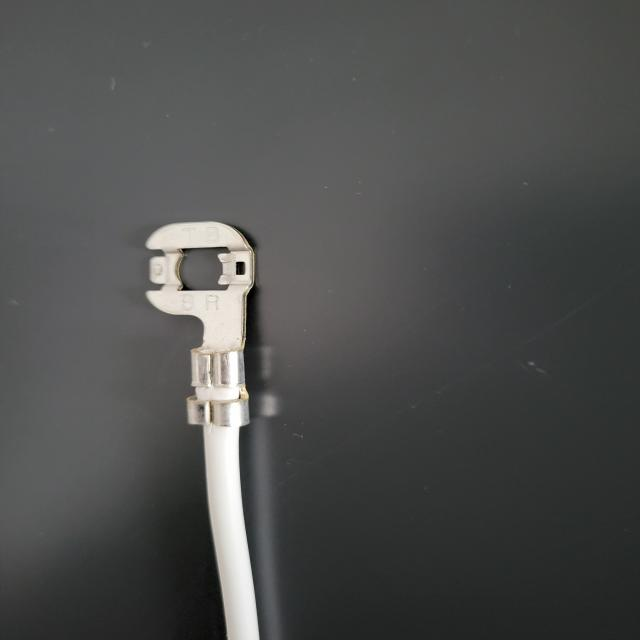defect: (162, 338, 310, 438)
